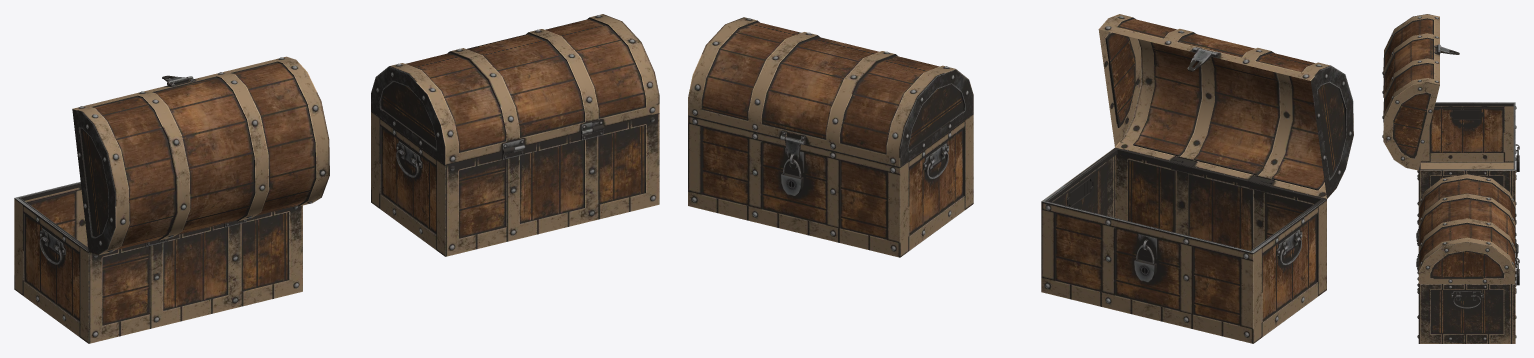
Rendered from chest.glb.
3 renders of one model, left to right at view 1: azimuth 30°, elevation 25°; view 2: azimuth 150°, elevation 25°; view 3: azimuth 270°, elevation 25°, orthographic. The views are drawn at different scales.
Size of the model in its own units: 1156 by 437 by 367.
1 material, 1 textured.
